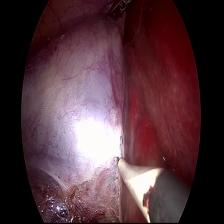Grasper: (105, 1, 136, 24)
Hook: (114, 133, 168, 221)
